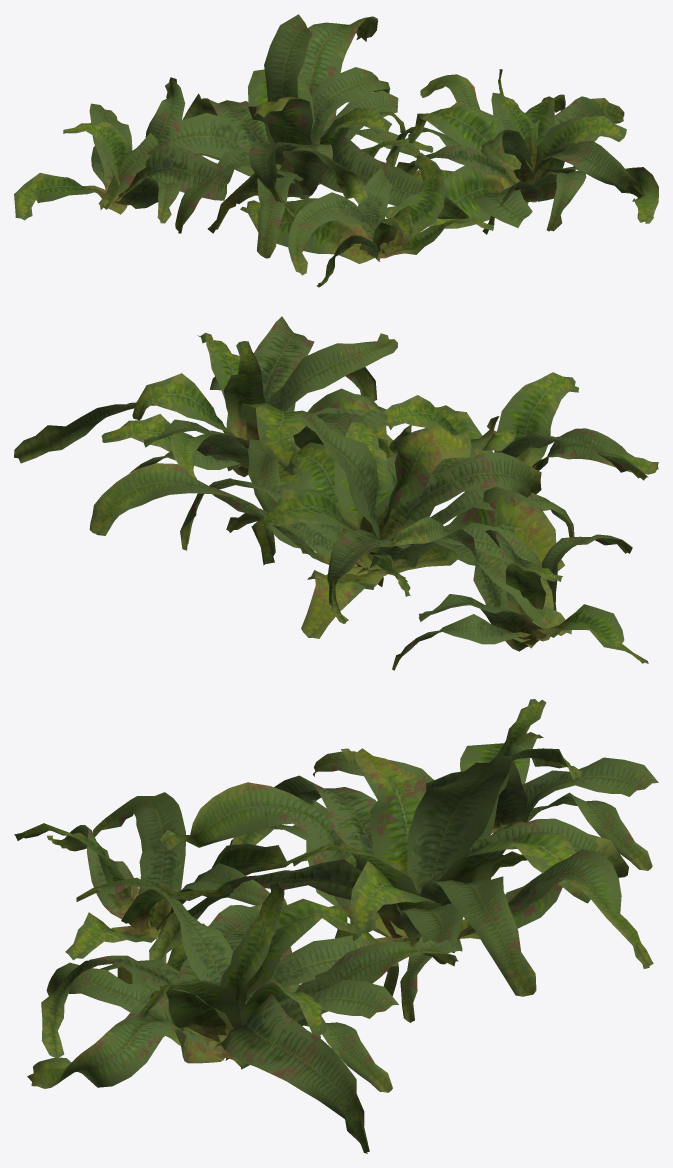
File: fern_grove.glb
3 renders of one model, top to bottom at view 1: azimuth 30°, elevation 25°; view 2: azimuth 150°, elevation 25°; view 3: azimuth 270°, elevation 25°, orthographic. The views are drawn at different scales.
Parts seen in each view (by area): view 1: fern_02_b, fern_02_c, fern_02_d, fern_02_a; view 2: fern_02_b, fern_02_c, fern_02_a, fern_02_d; view 3: fern_02_b, fern_02_c, fern_02_d, fern_02_a.
Part boxes in pixels (x1,y1,x2,y2): fern_02_b: (98, 14, 468, 258); fern_02_c: (385, 69, 658, 234); fern_02_d: (240, 152, 493, 287); fern_02_a: (14, 77, 233, 223); fern_02_b: (89, 413, 574, 638); fern_02_c: (14, 316, 397, 512); fern_02_a: (389, 516, 648, 670); fern_02_d: (382, 372, 658, 480); fern_02_b: (149, 748, 653, 1022); fern_02_c: (27, 877, 458, 1153); fern_02_d: (14, 792, 307, 960); fern_02_a: (313, 699, 658, 870).
Size of the model in its own units: 1.67 by 0.4277 by 1.14.
1 material, 1 textured.
